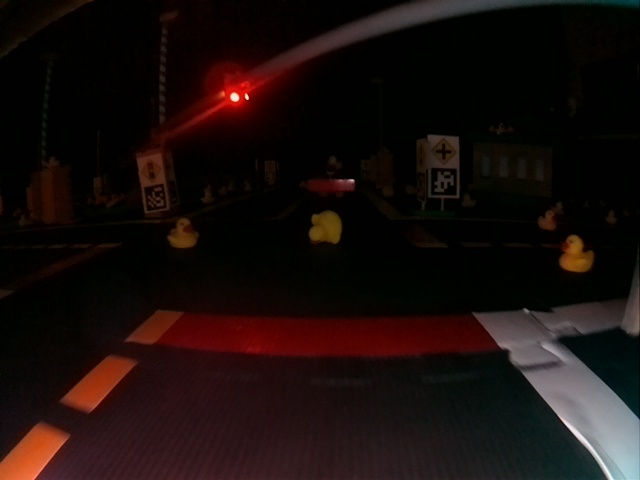Duckie: (558, 237, 591, 273), (309, 213, 340, 244), (170, 220, 194, 248), (537, 209, 558, 230), (203, 193, 213, 203), (462, 196, 472, 206)
Intersection sign: (432, 134, 459, 167)
QR code: (142, 186, 167, 212), (432, 170, 457, 195)
Signal sign: (140, 159, 164, 181)
